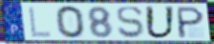8: (87, 6, 116, 39)
L: (27, 5, 54, 39)
O: (54, 4, 87, 39)
P: (177, 6, 206, 40)
S: (115, 5, 144, 39)
U: (144, 5, 177, 40)
